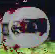Heavy Vehicles: (6, 3, 52, 48)
